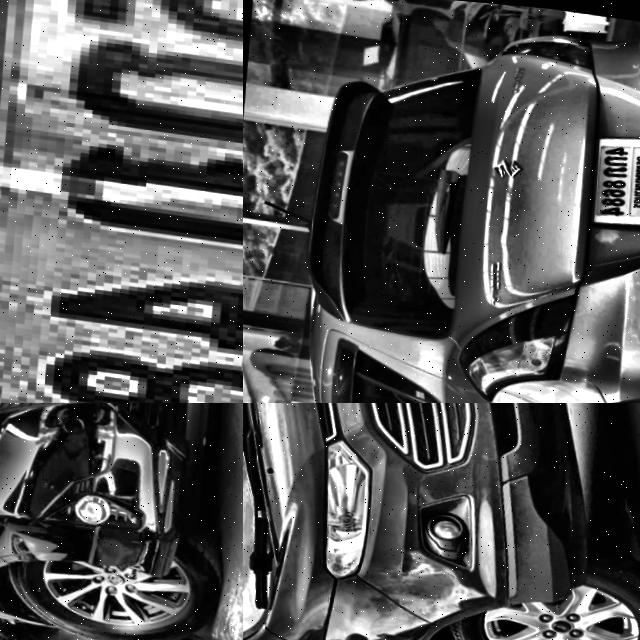license-plate: (0, 0, 243, 403), (588, 123, 640, 225)
